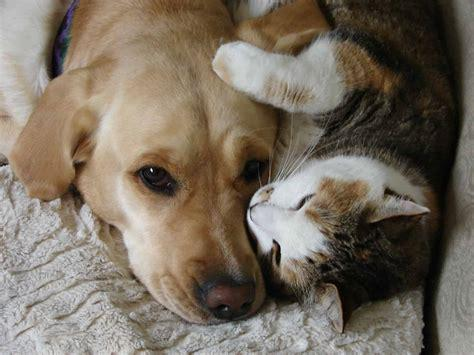cat: (213, 1, 461, 334)
dog: (1, 1, 325, 324)
